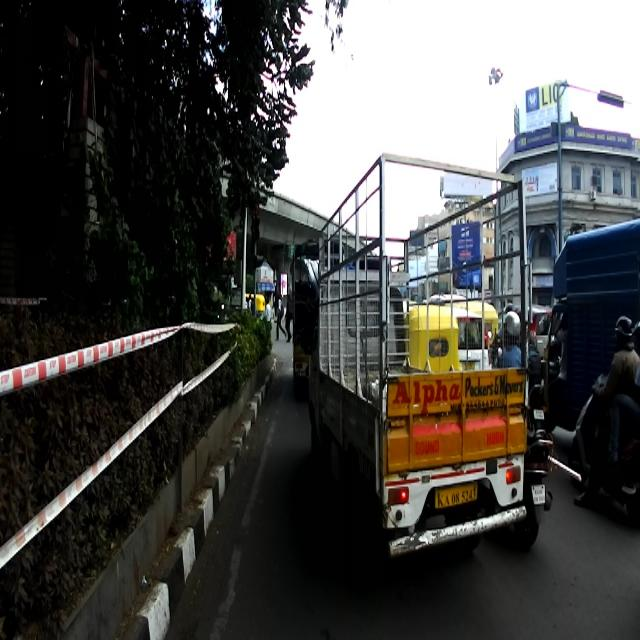autorickshaw: (408, 300, 464, 374)
scooter: (568, 373, 640, 512), (477, 424, 552, 551)
truck: (297, 151, 540, 584)
